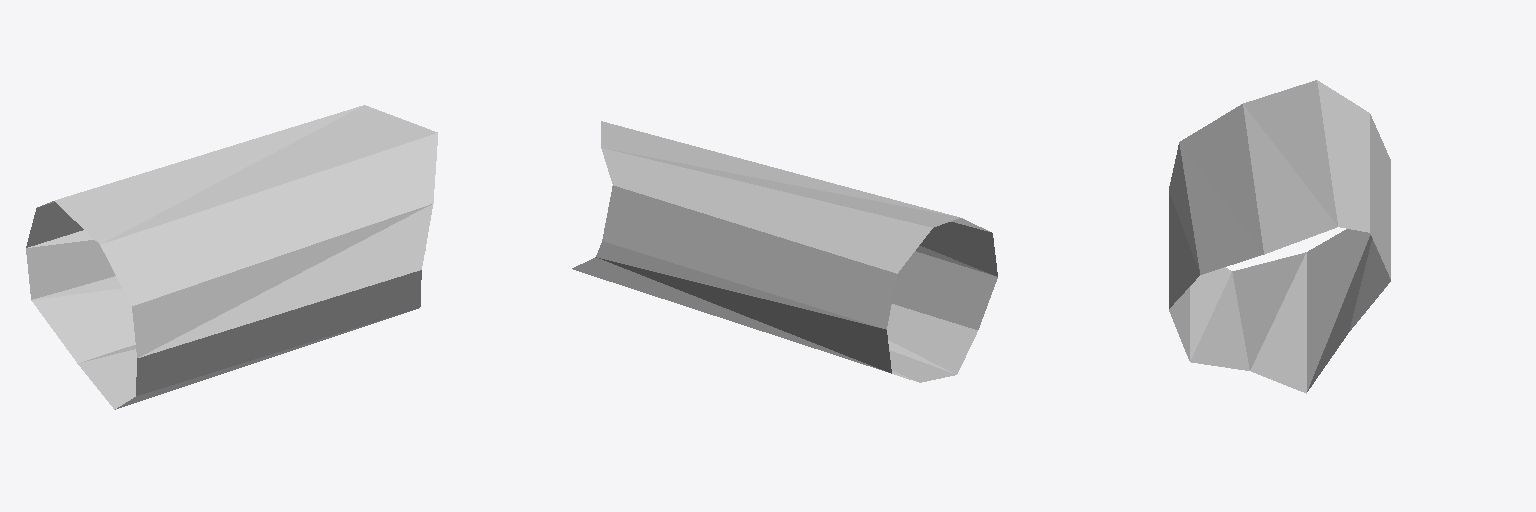
File: original-3.obj
3 renders of one model, left to right at view 1: azimuth 30°, elevation 25°; view 2: azimuth 150°, elevation 25°; view 3: azimuth 270°, elevation 25°, orthographic.
Parts seen in each view (by area): view 1: mesh2/mesh2-geometry#mesh2-geometry; view 2: mesh2/mesh2-geometry#mesh2-geometry; view 3: mesh2/mesh2-geometry#mesh2-geometry.
Part boxes in pixels (x1,y1,x2,y2): mesh2/mesh2-geometry#mesh2-geometry: (26, 105, 437, 409); mesh2/mesh2-geometry#mesh2-geometry: (572, 121, 997, 382); mesh2/mesh2-geometry#mesh2-geometry: (1169, 80, 1390, 393).
Bounding box in the file's own units: 0.0574 × 0.0287 × 0.0301.